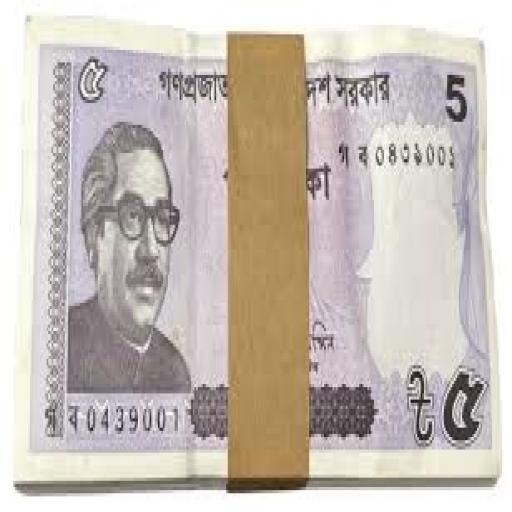5taka: (15, 19, 497, 481)
